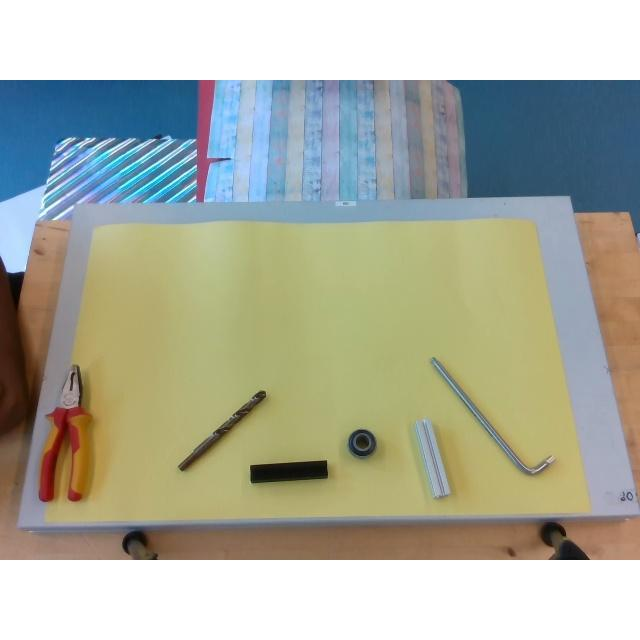AllenKey: (430, 357, 556, 475)
Bearing2: (348, 429, 377, 457)
Drill: (178, 390, 266, 470)
F20_20_B: (250, 461, 328, 484)
F20_20_G: (414, 418, 450, 498)
